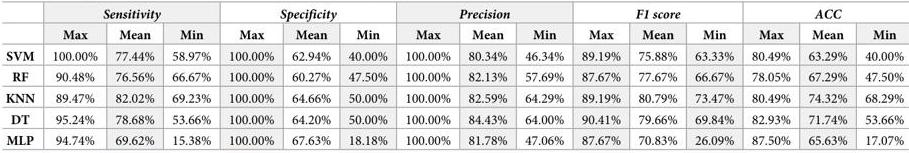table: (5, 5, 903, 147)
table column: (43, 5, 106, 147), (219, 5, 282, 147), (396, 5, 459, 147), (162, 5, 219, 147), (282, 5, 339, 147), (339, 5, 396, 147), (515, 5, 572, 147), (572, 5, 629, 147), (685, 5, 742, 147), (742, 5, 799, 147), (106, 5, 162, 147), (459, 5, 515, 147), (629, 5, 685, 147), (799, 5, 855, 147), (855, 5, 903, 147), (5, 5, 43, 147)
table column header: (5, 5, 903, 45)
table row: (5, 45, 903, 67), (5, 67, 903, 88), (5, 88, 903, 109), (5, 109, 903, 130), (5, 5, 903, 25), (5, 25, 903, 45), (5, 130, 903, 147)
table spanning cell: (219, 5, 396, 25), (43, 5, 219, 25), (396, 5, 572, 25), (572, 5, 742, 25), (742, 5, 903, 25)
